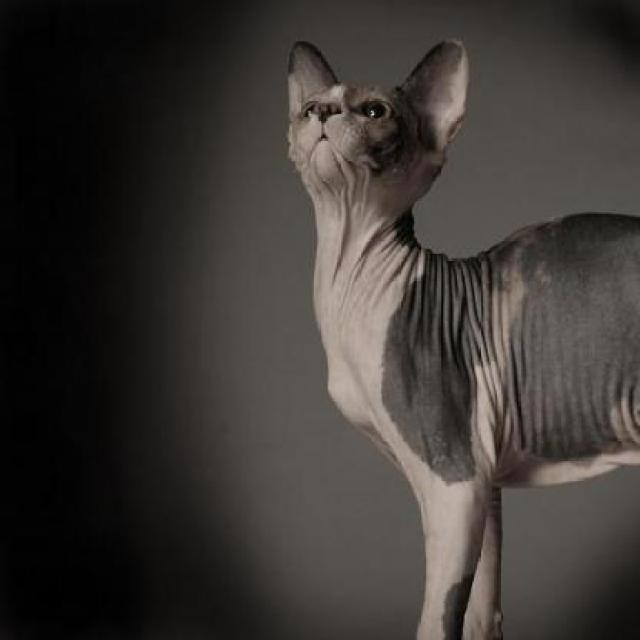cat: (286, 37, 639, 638)
